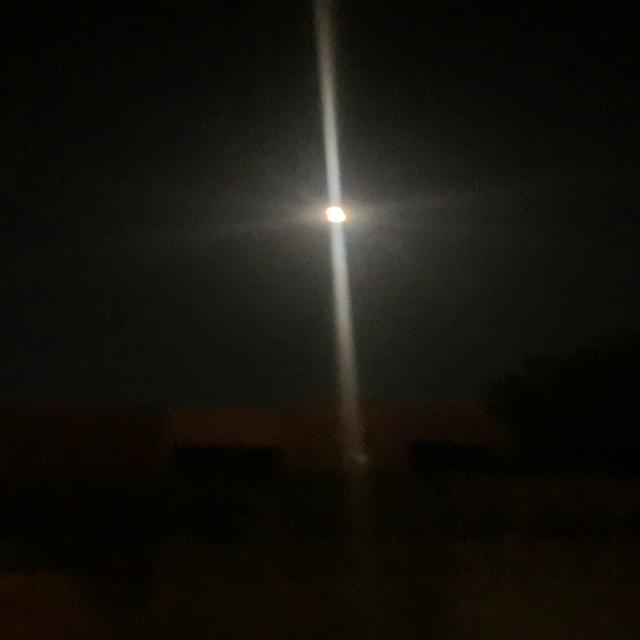moon: (305, 194, 369, 227)
